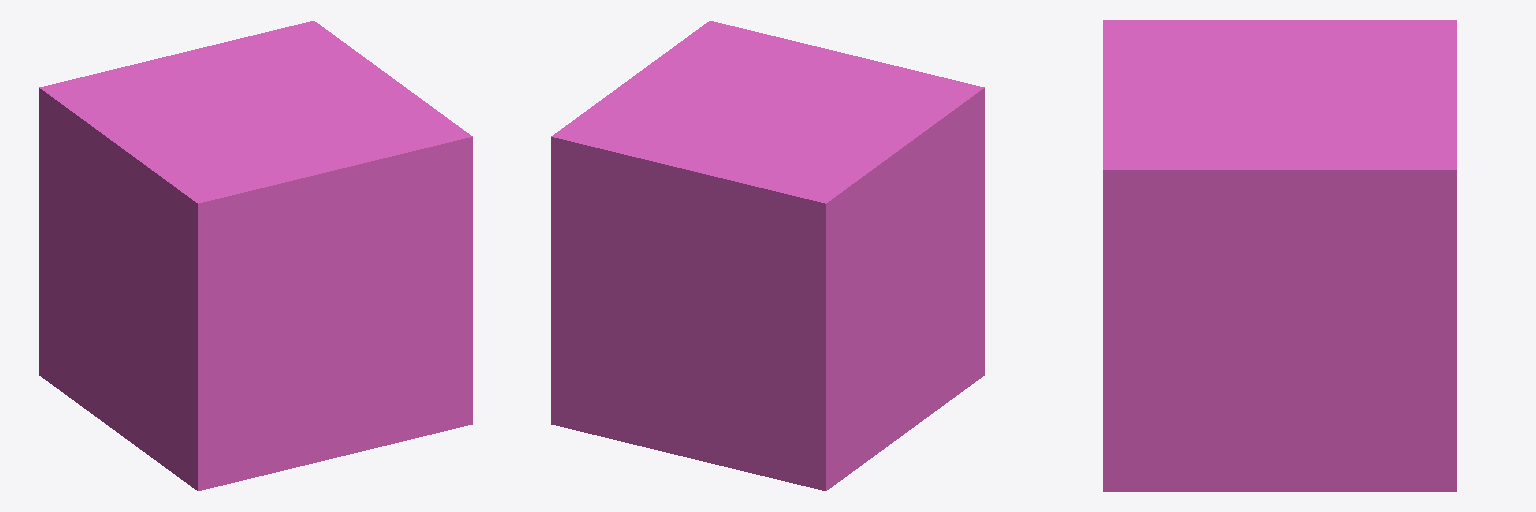
The robot description file, URDF, robot "cube_grasping.urdf":
<?xml version="1.0" ?>
<robot name="cube_grasping.urdf">
  <link name="baseLink">
    <contact>
      <!-- <lateral_friction value="1.0"/>
      <inertia_scaling value="3.0"/> -->
      <!-- <friction_anchor/> -->
      <lateral_friction value="1.3"/>
      <!-- <rolling_friction value="0"/> -->
      <stiffness value="300"/>
      <!-- <damping value="10"/> -->
      <damping value="20"/>
      <!-- <damping value="30"/> -->
    </contact>
    <inertial>
      <origin rpy="0 0 0" xyz="0 0 0"/>
       <mass value="0.00711"/>
       <inertia ixx="1" ixy="0" ixz="0" iyy="1" iyz="0" izz="1"/>
    </inertial>
    <visual>
      <origin rpy="0 0 0" xyz="0 0 0"/>
      <geometry>
				<mesh filename="cube.obj" scale=".06 .06 .06"/>
      </geometry>
       <material name="pink">
        <color rgba="0.933 0.463 0.831 1"/>
      </material>
    </visual>
    <collision>
      <origin rpy="0 0 0" xyz="0 0 0"/>
      <geometry>
	 	     <box size=".06 .06 .06"/>
      </geometry>
    </collision>
  </link>
</robot>

--- Facts derived from the render (not from the file) ---
The picture shows the robot from 3 angles, left to right: view 1: azimuth 30°, elevation 25°; view 2: azimuth 150°, elevation 25°; view 3: azimuth 270°, elevation 25°; orthographic projection.
Robot: cube_grasping.urdf — 1 links, 0 joints (none); root link baseLink; default pose: all joints at 0.
Visible links, largest first — view 1: baseLink; view 2: baseLink; view 3: baseLink.
Link boxes in pixels (<box>): baseLink: <box>39,21,472,490</box>; baseLink: <box>551,21,984,490</box>; baseLink: <box>1103,20,1456,491</box>.
Bounding box of the posed robot: 0.06 × 0.06 × 0.06 m (x, y, z).
Meshes: 1 distinct files referenced, 1 mesh visuals loaded (1 OBJ).